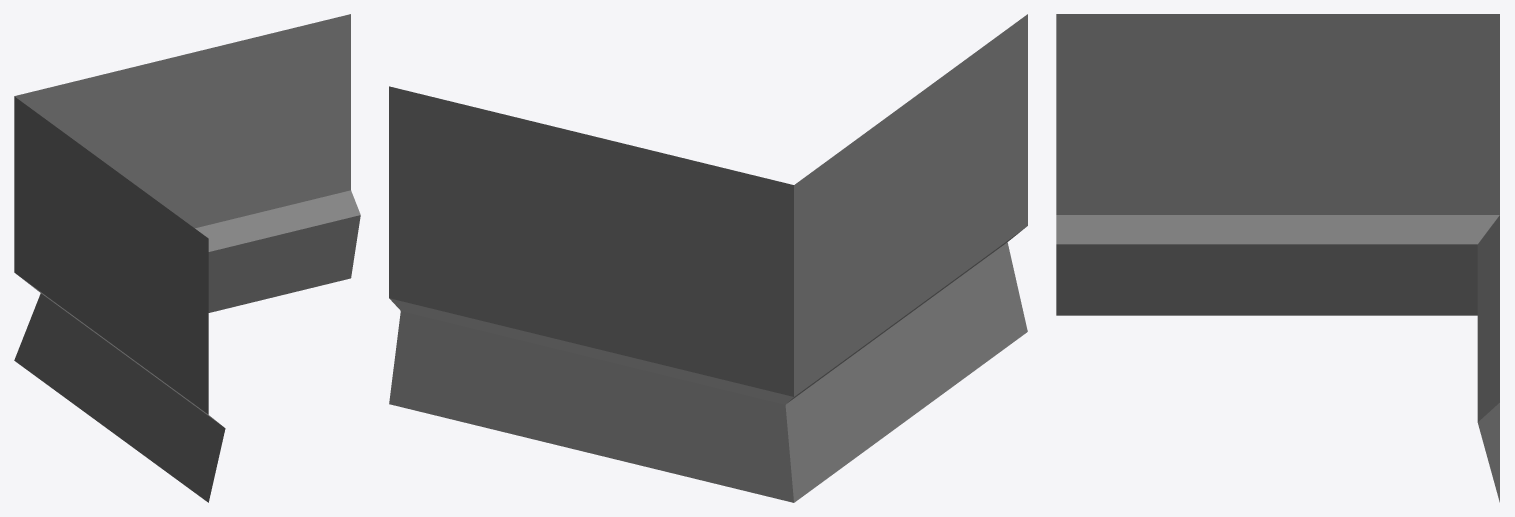
Rendered from q-scifi-mod-wallband-corner-square-outer.glb.
3 renders of one model, left to right at view 1: azimuth 30°, elevation 25°; view 2: azimuth 150°, elevation 25°; view 3: azimuth 270°, elevation 25°, orthographic. The views are drawn at different scales.
Visible parts, largest first — view 1: WallBand_Corner_Square_Outer; view 2: WallBand_Corner_Square_Outer; view 3: WallBand_Corner_Square_Outer.
Boxes of the visible parts, box(x1,y1,x2,y2) form: WallBand_Corner_Square_Outer: box(14, 14, 360, 502); WallBand_Corner_Square_Outer: box(389, 14, 1027, 502); WallBand_Corner_Square_Outer: box(1056, 14, 1499, 502).
Size of the model in its own units: 4.01 by 3 by 4.01.
Materials: 3 (3 with a texture image).
